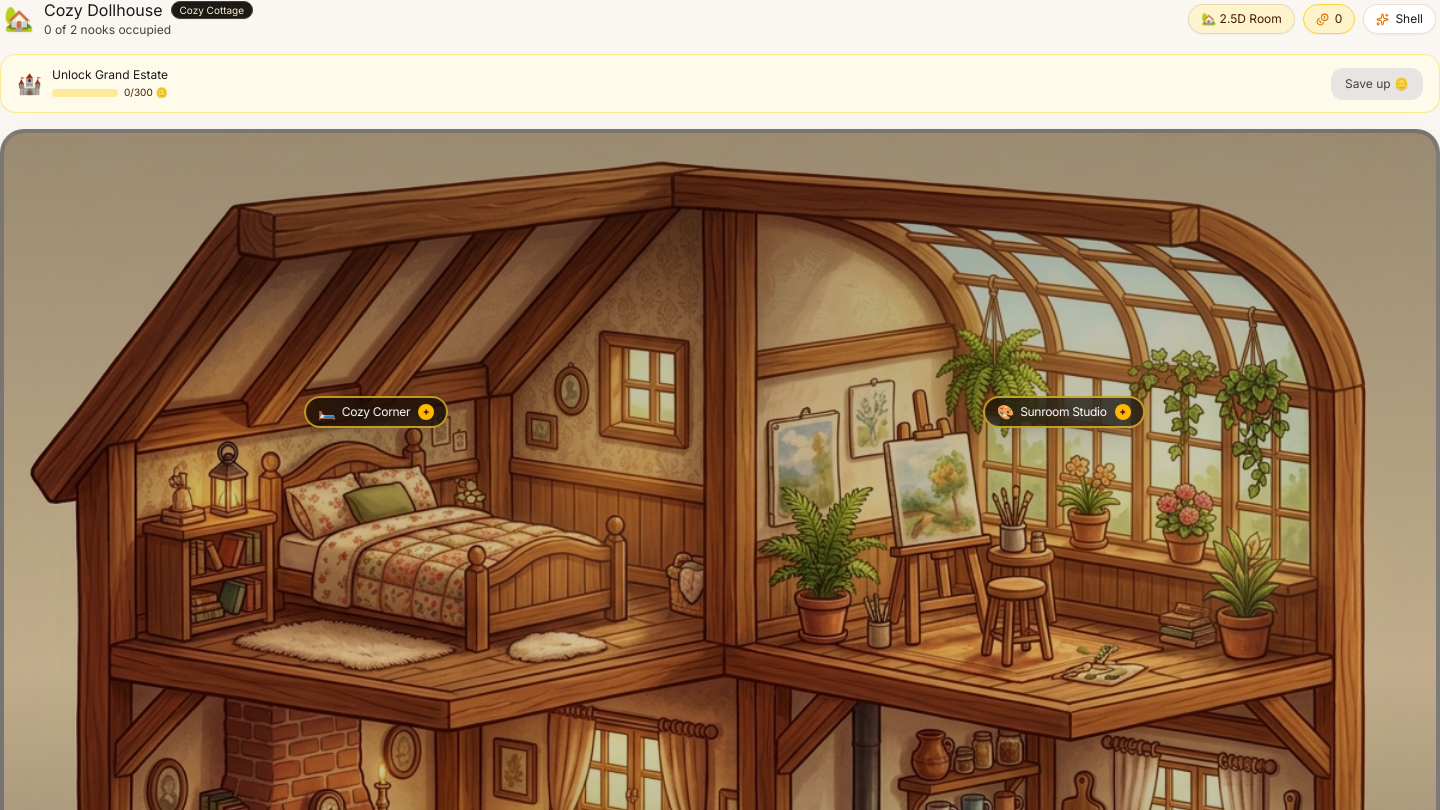
Test: ProfileShell Assign Space Modal › renders "Create New Space" card tile and quick action button when unassigned posts exist
Open assign modal for Cozy Corner
Click the button titled "Snap a space to Cozy Corner" at (376, 412), box [304,396,448,428]
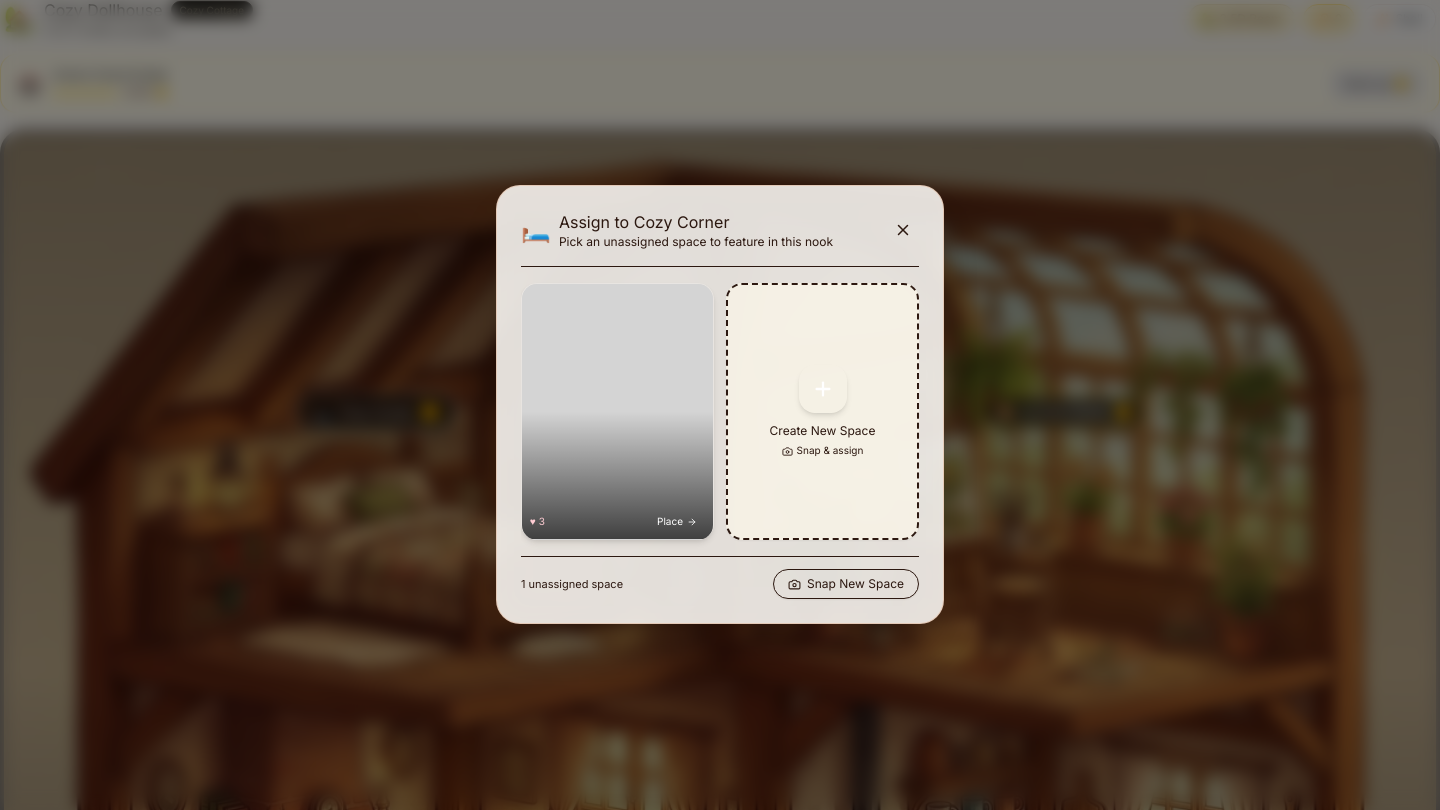
Expected: the text "Place" is shown, [657,516,697,528]
Expected: the link "Create New Space Snap & assign" is shown, [726,283,919,541]
Expected: the link "Snap New Space" is shown, [773,570,919,600]
